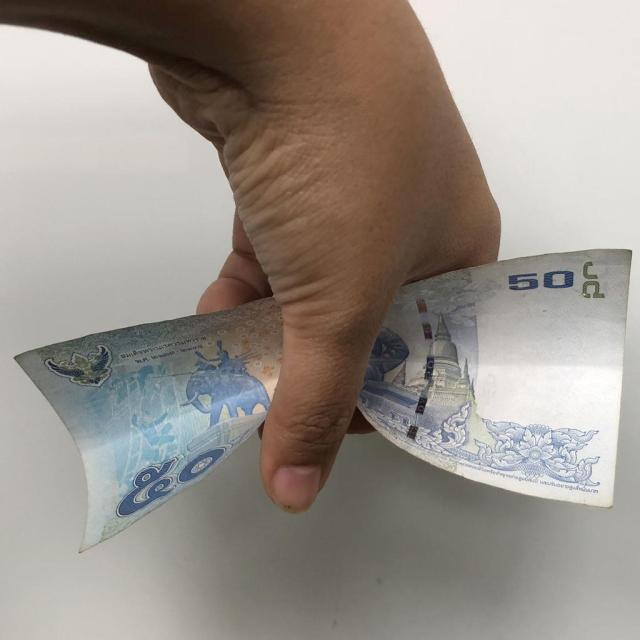THAI50: (358, 249, 631, 508), (14, 299, 281, 551)
